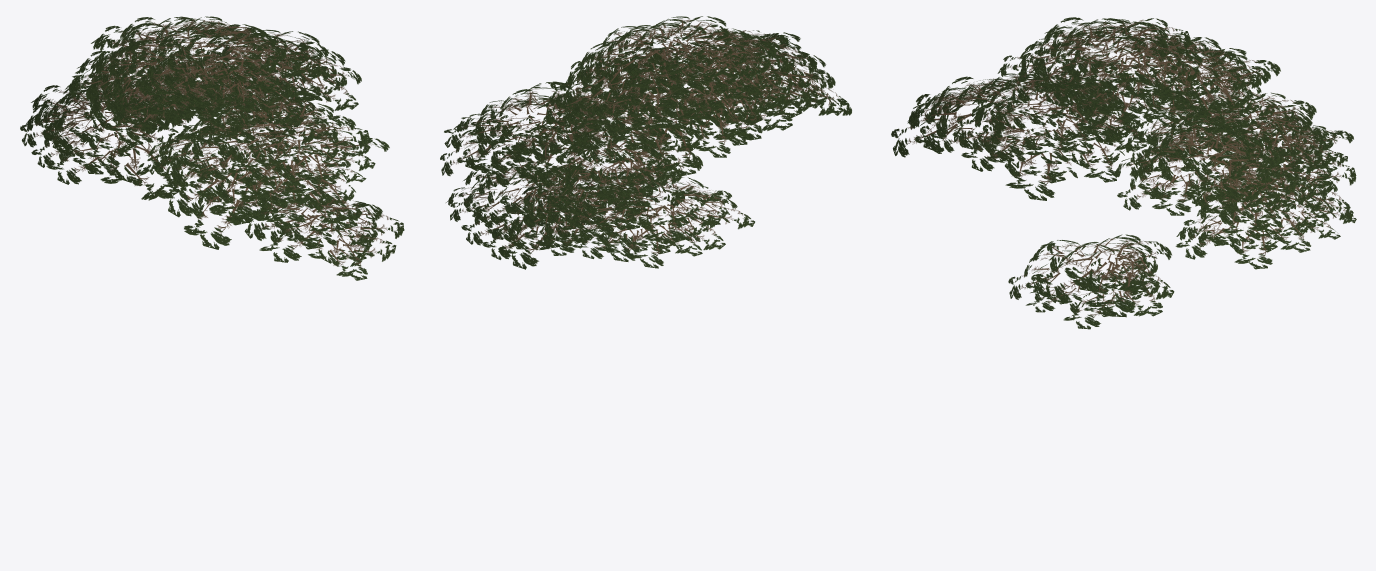
File: SM_Env_Tree_Medium_01.gltf
3 renders of one model, left to right at view 1: azimuth 30°, elevation 25°; view 2: azimuth 150°, elevation 25°; view 3: azimuth 270°, elevation 25°, orthographic. The views are drawn at different scales.
Visible parts, largest first — view 1: SM_Env_Tree_Medium_01_LOD0; view 2: SM_Env_Tree_Medium_01_LOD0; view 3: SM_Env_Tree_Medium_01_LOD0.
Boxes of the visible parts, x1,y1,x2,y2 form: SM_Env_Tree_Medium_01_LOD0: [20, 16, 404, 280]; SM_Env_Tree_Medium_01_LOD0: [440, 16, 851, 269]; SM_Env_Tree_Medium_01_LOD0: [891, 17, 1356, 329].
Size of the model in its own units: 9.54 by 15.2 by 13.22.
1 material, 1 textured.
